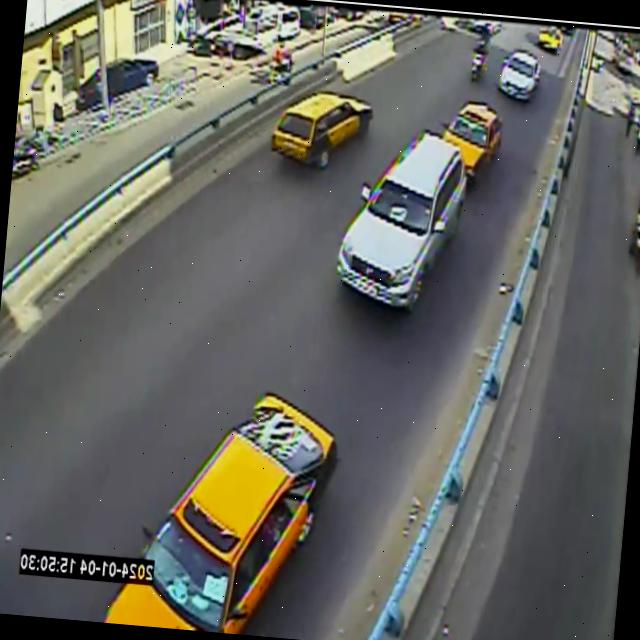car: (104, 394, 338, 633), (337, 130, 467, 308), (271, 93, 373, 167), (443, 101, 502, 178), (498, 49, 540, 100), (537, 27, 563, 54)
